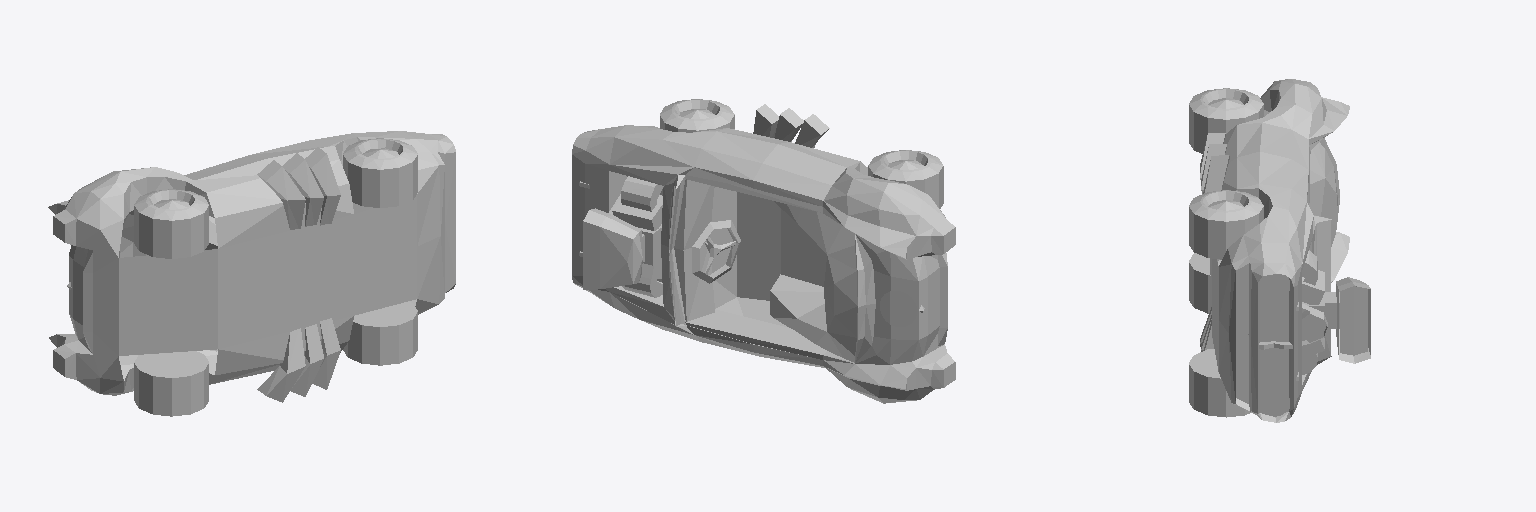
File: flame flayer.obj
The picture shows the model from 3 angles: view 1: azimuth 30°, elevation 25°; view 2: azimuth 150°, elevation 25°; view 3: azimuth 270°, elevation 25°; orthographic projection.
Visible parts, largest first — view 1: polygon0.002_polygon0.004; view 2: polygon0.002_polygon0.004; view 3: polygon0.002_polygon0.004.
Boxes of the visible parts, <box> form: polygon0.002_polygon0.004: <box>48,131,455,416</box>; polygon0.002_polygon0.004: <box>572,99,955,403</box>; polygon0.002_polygon0.004: <box>1189,79,1370,422</box>.
Size of the model in its own units: 5.51 by 3.31 by 2.3.